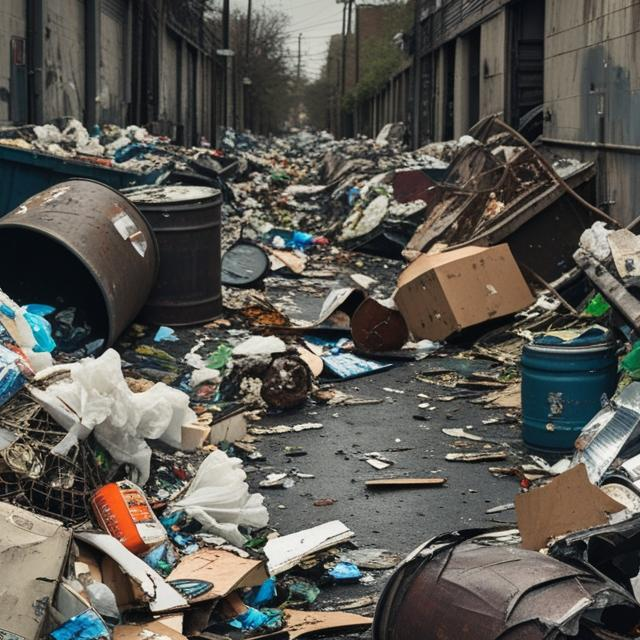metal: (390, 533, 619, 640)
plastic: (55, 351, 213, 468)
